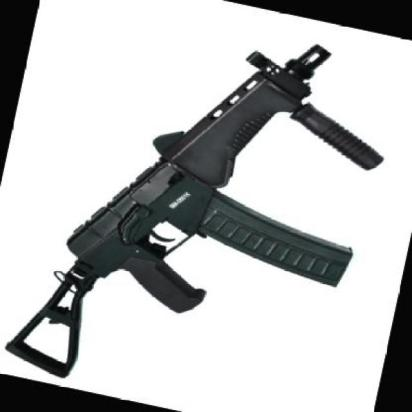Gun: (5, 41, 355, 382)
